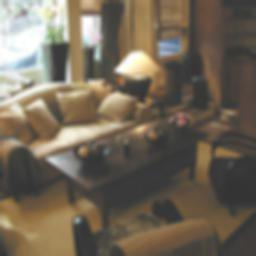Bote de Basura: (162, 63, 181, 104), (190, 71, 207, 108)
Matera: (36, 14, 64, 82), (81, 27, 99, 80)
